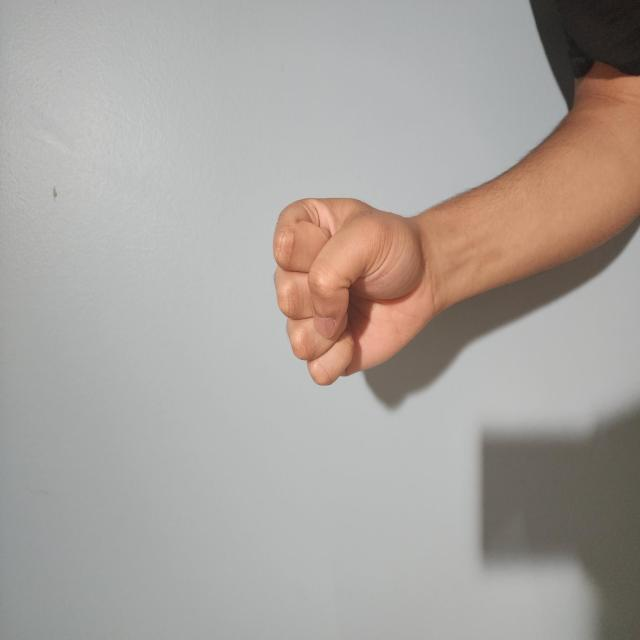S: (186, 358, 336, 570)
